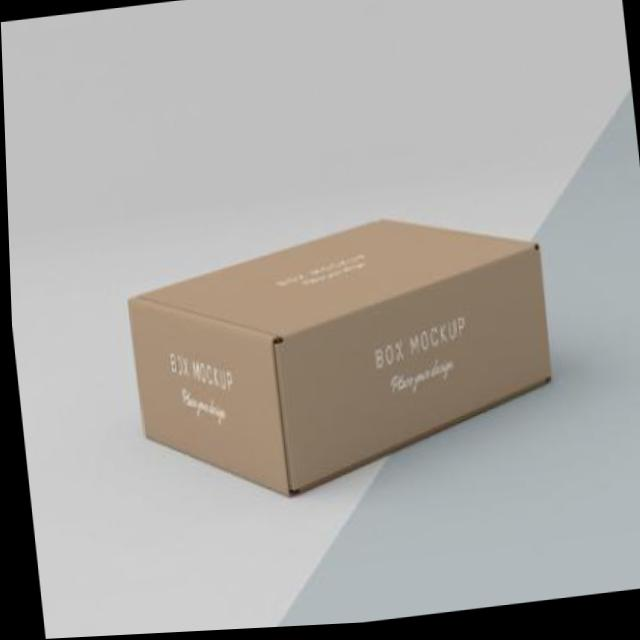box: (101, 171, 581, 559)
